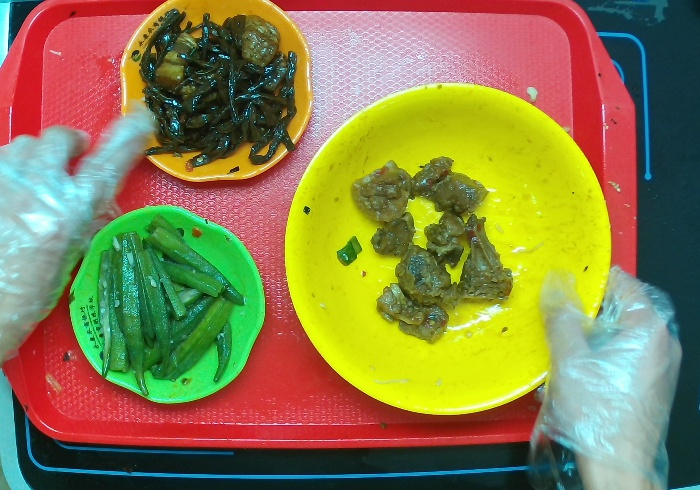YKMZ-Huang_Se_Tang_Wan: (277, 78, 627, 421)
YKMZ-Ju_Se_Ao_Bian_Wan: (106, 1, 321, 188)
YKMZ-Lv_Se_Ao_Bian_Wan: (63, 200, 272, 411)
